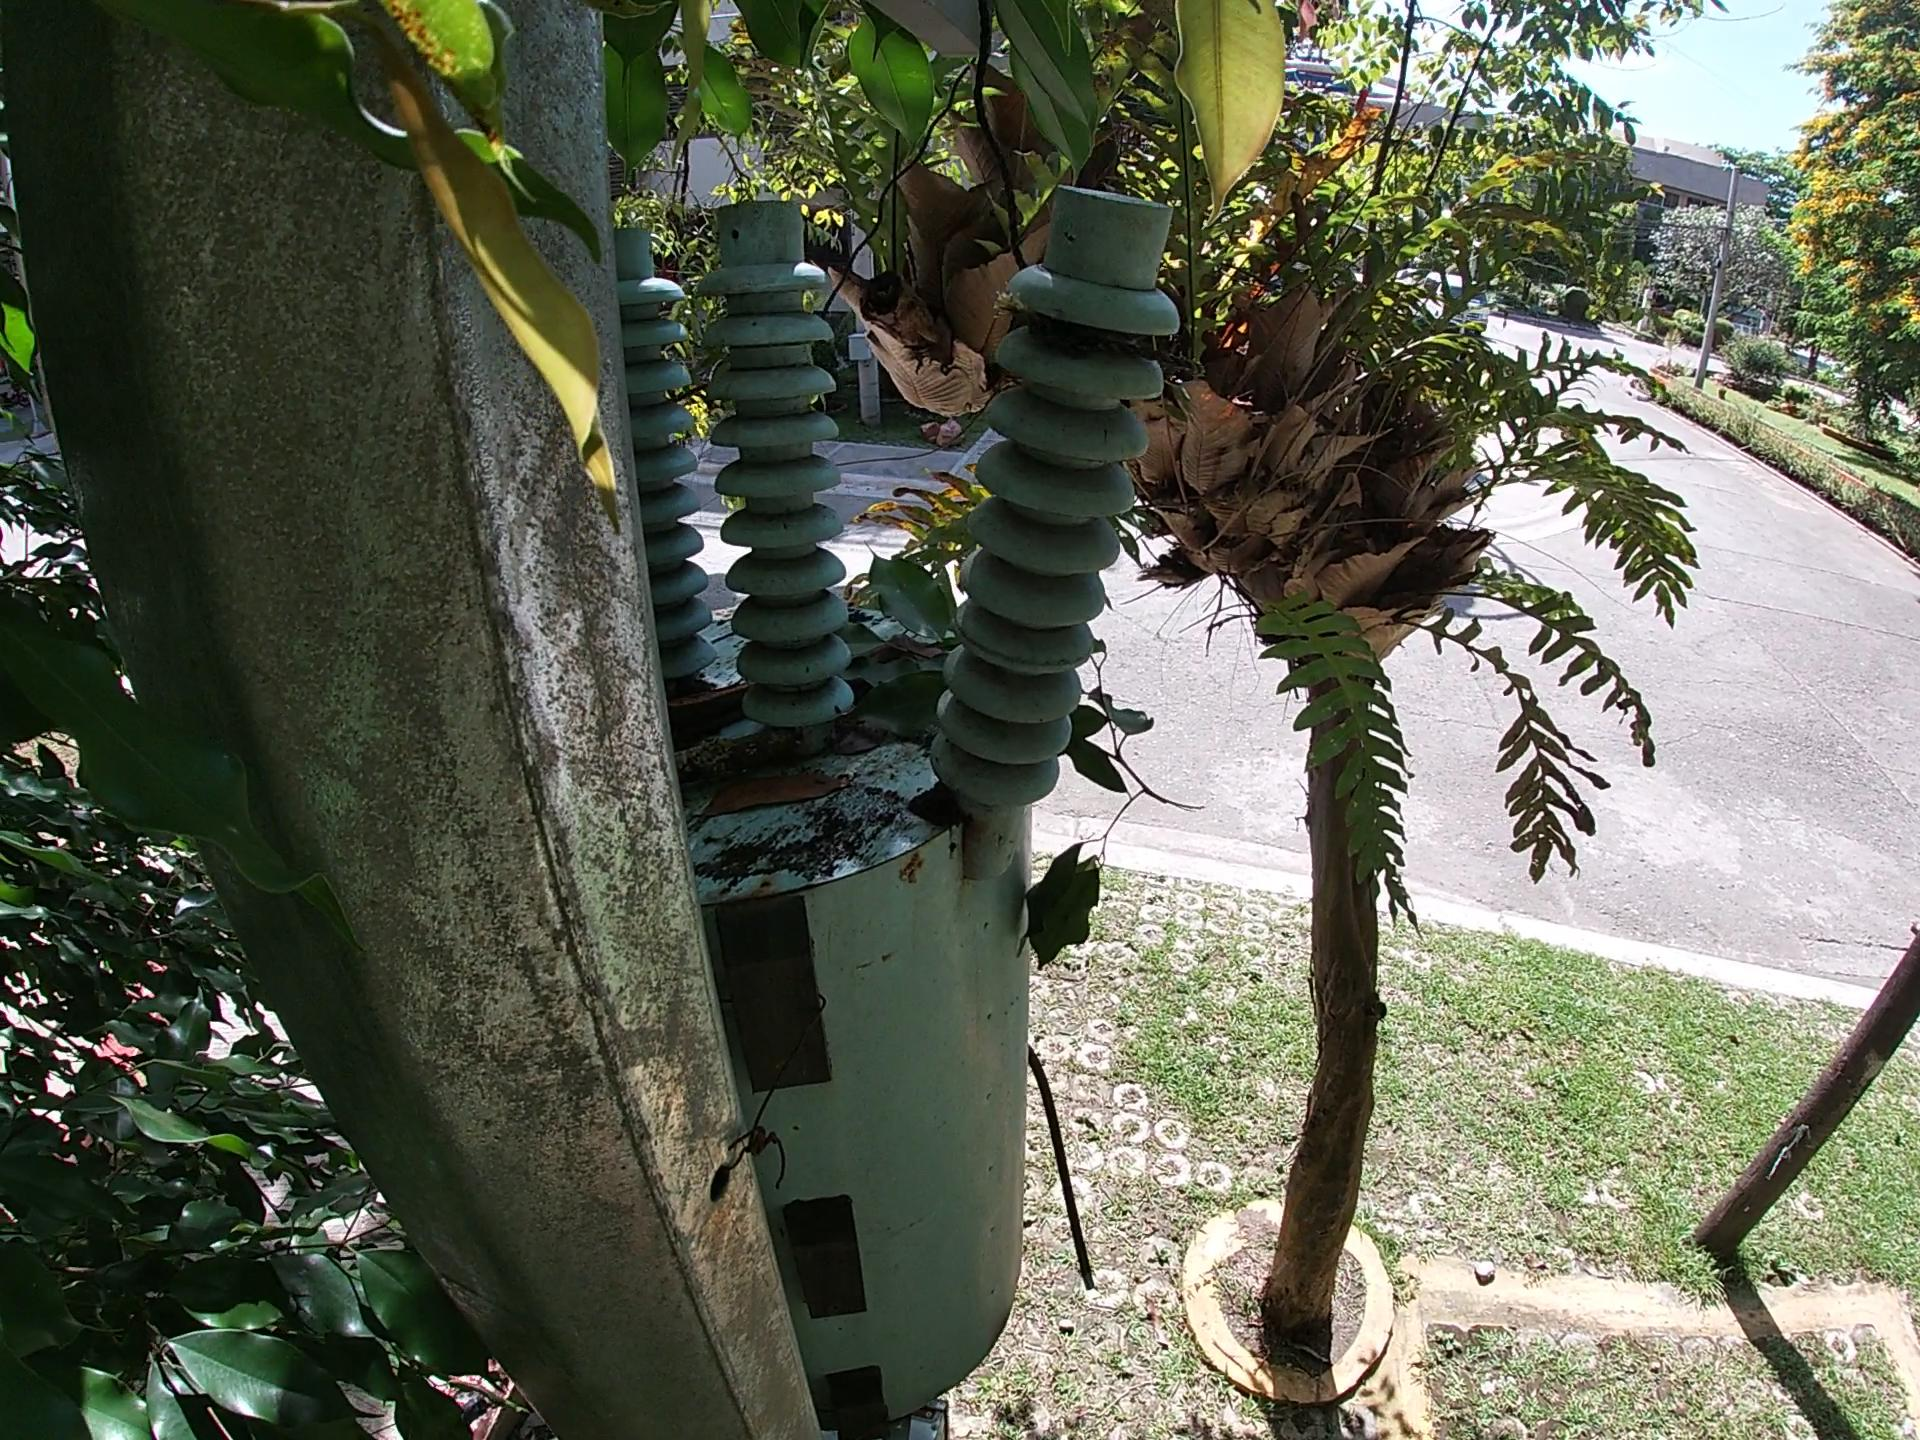branch with leaves: (1013, 638, 1203, 1007)
leaf: (848, 545, 949, 714), (697, 779, 850, 809)
mahogany fruit: (658, 679, 773, 722)
tree branch: (664, 743, 825, 762)
